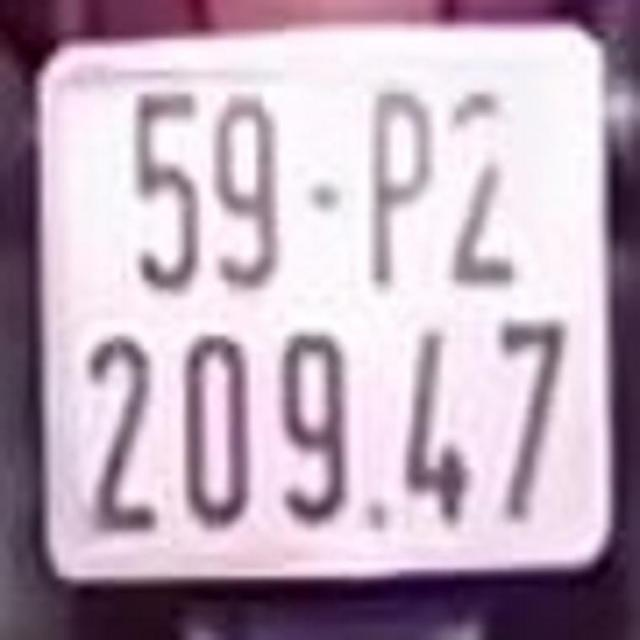0: (178, 320, 257, 548)
2: (444, 58, 522, 301), (82, 326, 161, 540)
4: (394, 312, 478, 538)
5: (122, 76, 205, 308)
7: (497, 307, 570, 535)
9: (274, 312, 353, 538), (208, 66, 283, 300)
P: (357, 70, 438, 292)
